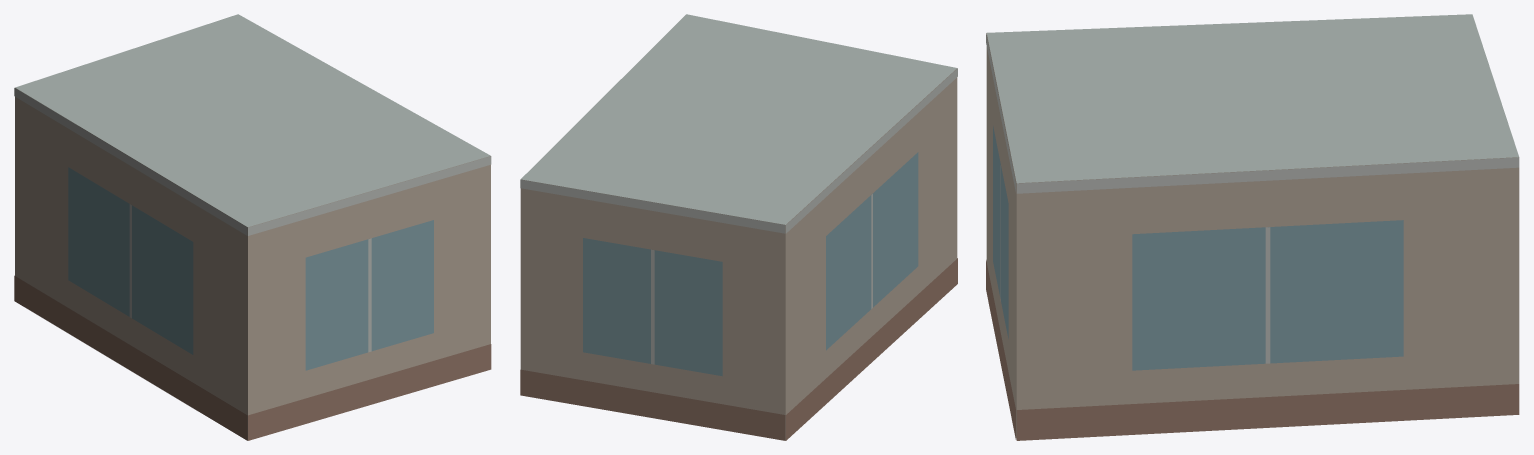
File: survey-upis-32940869.glb
3 renders of one model, left to right at view 1: azimuth 30°, elevation 25°; view 2: azimuth 150°, elevation 25°; view 3: azimuth 270°, elevation 25°, orthographic. The views are drawn at different scales.
Visible parts, largest first — view 1: survey-upis-32940869.tmp; view 2: survey-upis-32940869.tmp; view 3: survey-upis-32940869.tmp.
Boxes of the visible parts, <box> form: survey-upis-32940869.tmp: <box>14,14,491,440</box>; survey-upis-32940869.tmp: <box>520,14,957,440</box>; survey-upis-32940869.tmp: <box>986,14,1519,440</box>.
Bounding box in the file's own units: 4.31 × 3.05 × 5.73.
